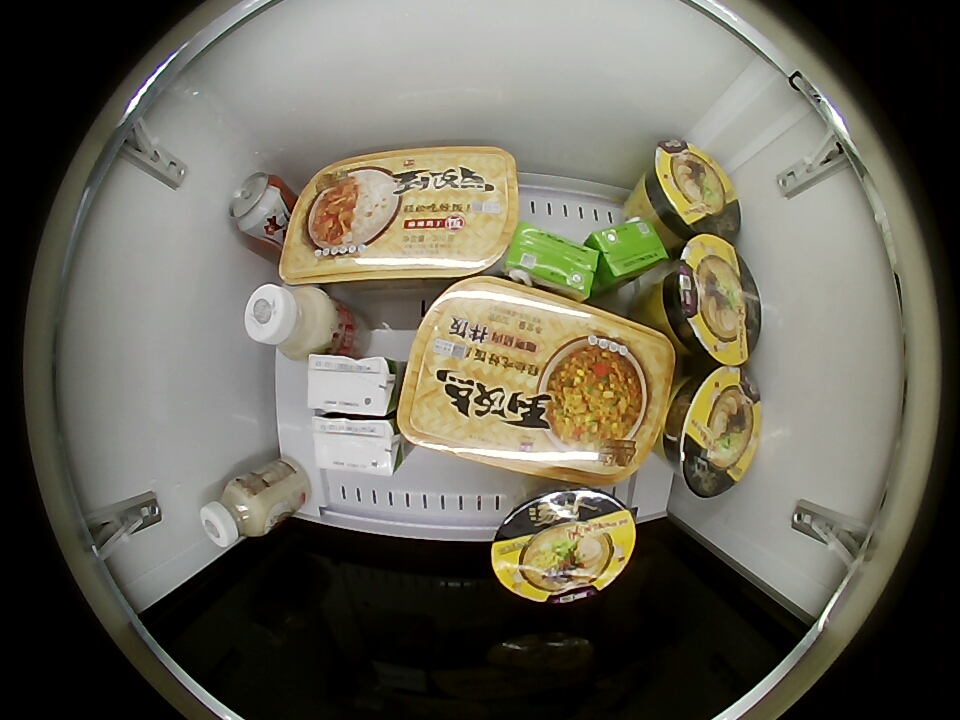daofandian3: (398, 277, 674, 485)
daofandian4: (280, 146, 519, 284)
jianlibao: (229, 172, 288, 237)
jindian: (306, 353, 400, 417), (311, 414, 406, 477)
mengniuzaocan: (502, 223, 600, 300), (593, 217, 669, 275)
tangdaren2: (491, 488, 636, 605), (659, 235, 762, 366), (667, 366, 763, 497), (643, 140, 741, 242)
weiweidounai: (244, 282, 333, 359), (200, 476, 271, 548)
